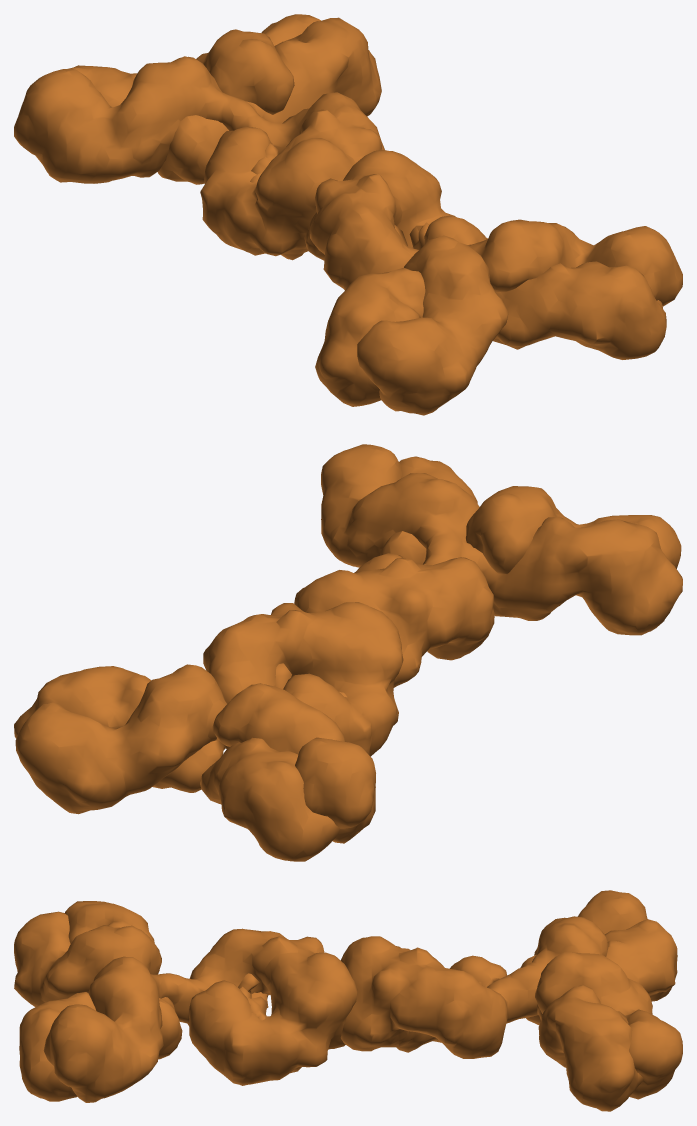
Rendered from iIgA_Antibody_2mer.dae.
3 views of the same model, one above another, from view 1: azimuth 30°, elevation 25°; view 2: azimuth 150°, elevation 25°; view 3: azimuth 270°, elevation 25° (orthographic). The views are drawn at different scales.
Visible parts, largest first — view 1: Metaball.5, Metaball.2, Metaball.3, Metaball.6; view 2: Metaball.2, Metaball.5, Metaball.6, Metaball.3; view 3: Metaball.2, Metaball.5, Metaball.3, Metaball.6, Metaball.
Boxes of the visible parts, bbox=[...] form: Metaball.5: bbox=[14, 17, 384, 260]; Metaball.2: bbox=[304, 150, 682, 406]; Metaball.3: bbox=[357, 235, 666, 415]; Metaball.6: bbox=[69, 14, 320, 184]; Metaball.2: bbox=[294, 444, 682, 687]; Metaball.5: bbox=[14, 602, 403, 843]; Metaball.6: bbox=[15, 664, 339, 861]; Metaball.3: bbox=[380, 456, 681, 596]; Metaball.2: bbox=[43, 901, 357, 1102]; Metaball.5: bbox=[340, 890, 647, 1111]; Metaball.3: bbox=[14, 911, 182, 1101]; Metaball.6: bbox=[520, 919, 682, 1099]; Metaball: bbox=[238, 973, 268, 1020].
Bounding box in the file's own units: 157 × 59.53 × 291.
